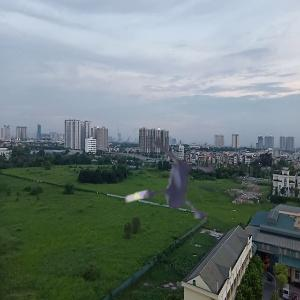drone: (101, 118, 233, 250)
